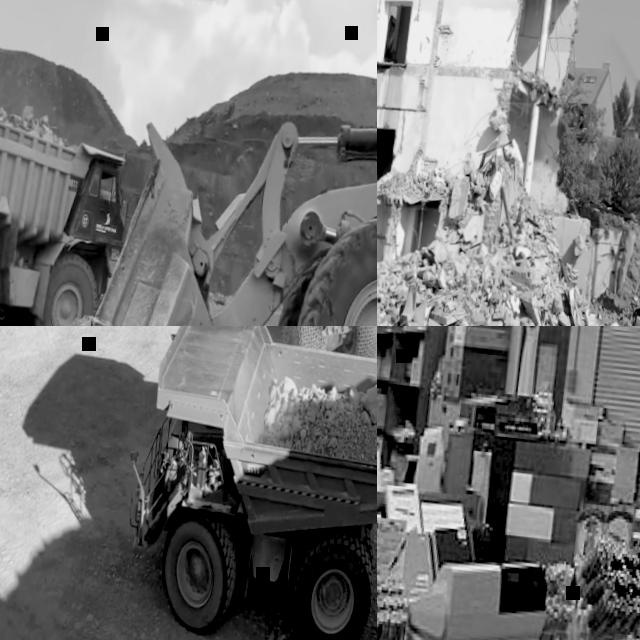machinery: (51, 0, 377, 326), (108, 326, 377, 640), (490, 0, 640, 326), (0, 79, 140, 326)
